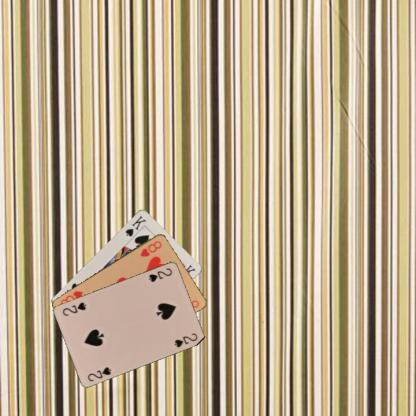2s: (146, 265, 174, 283), (85, 364, 113, 382)
8h: (137, 238, 163, 258)
Ks: (122, 212, 148, 237)
